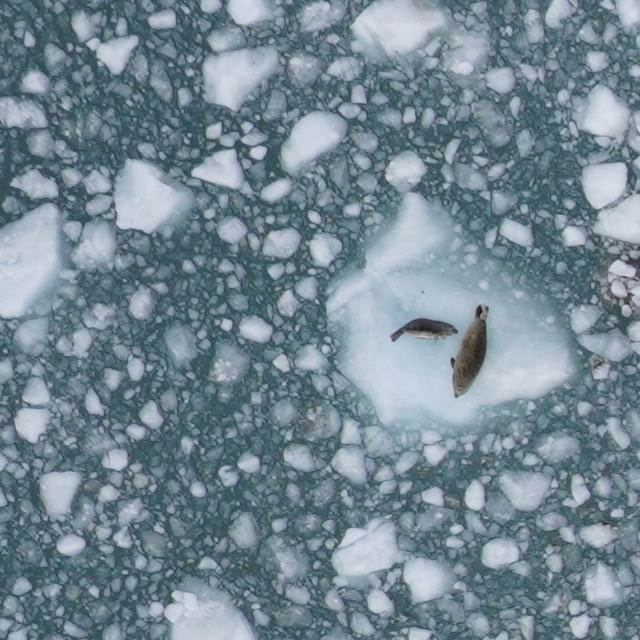seal: (447, 302, 491, 401), (388, 316, 462, 346)
